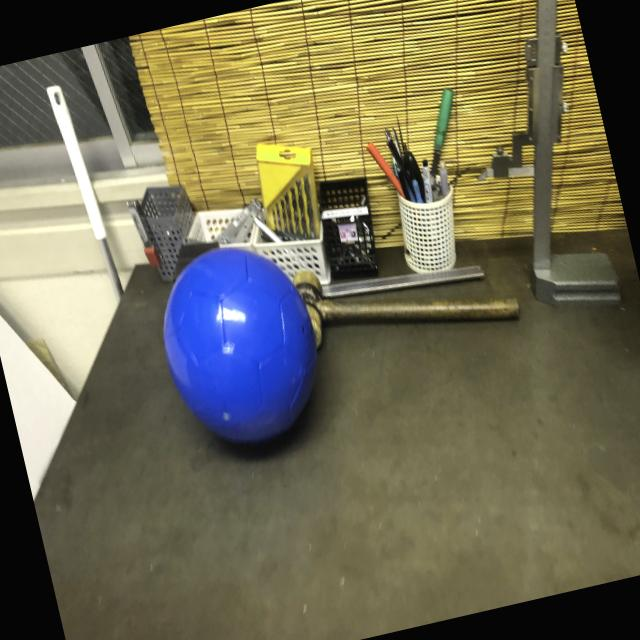blue_ball: (145, 237, 334, 463)
